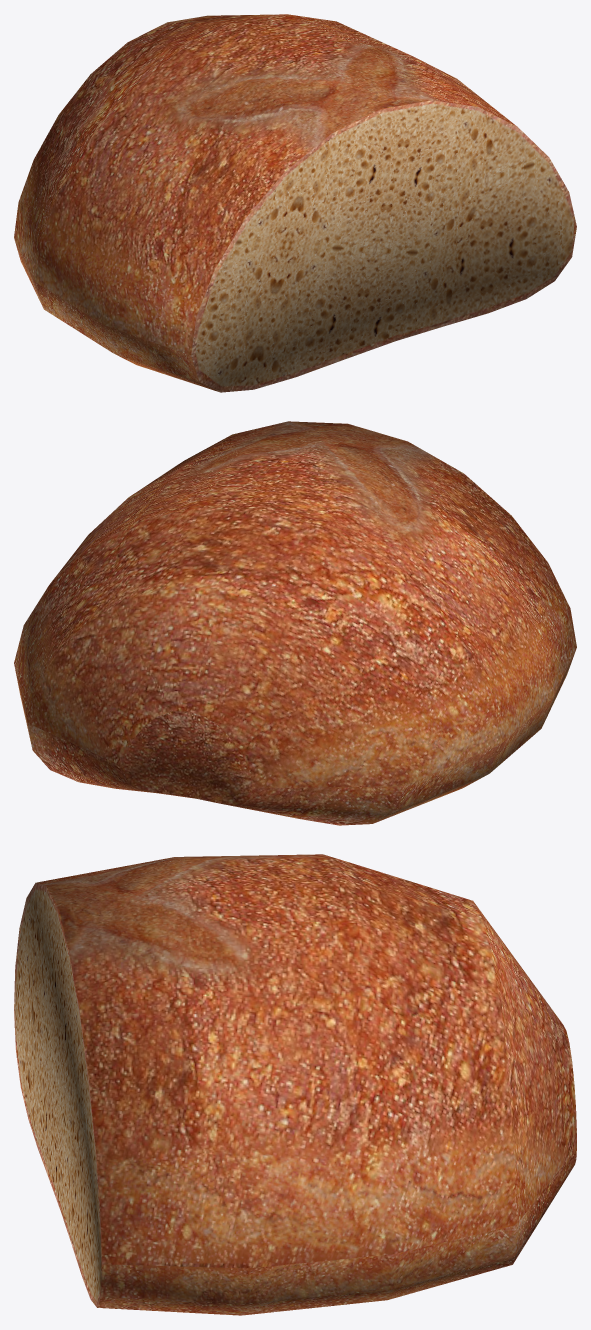
The model's file is Bread_MPI01_fbx.fbx.
3 views of the same model, one above another, from view 1: azimuth 30°, elevation 25°; view 2: azimuth 150°, elevation 25°; view 3: azimuth 270°, elevation 25° (orthographic). The views are drawn at different scales.
Parts seen in each view (by area): view 1: breadHalf_002; view 2: breadHalf_002; view 3: breadHalf_002.
Boxes of the visible parts, left/top/right/bottom form: breadHalf_002: left=14, top=14, right=576, bottom=392; breadHalf_002: left=14, top=421, right=576, bottom=825; breadHalf_002: left=14, top=854, right=576, bottom=1315.
Size of the model in its own units: 11.57 by 6.17 by 9.84.
1 material, 1 textured.
